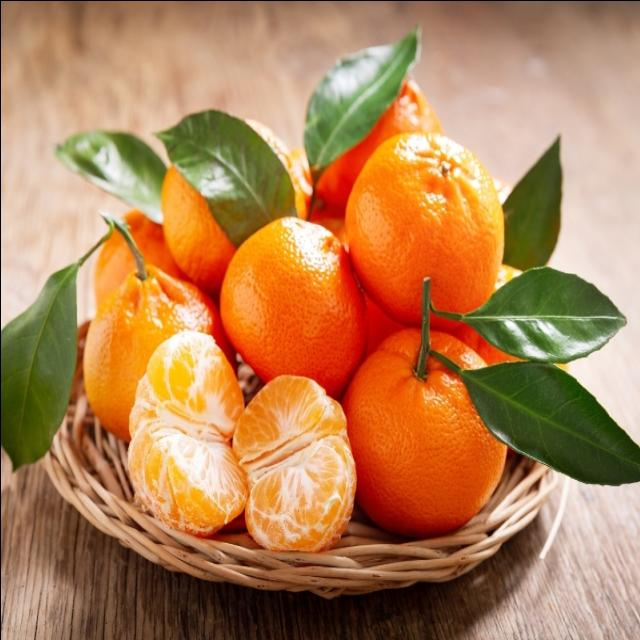Orange: (342, 322, 508, 542), (346, 131, 500, 327), (123, 329, 240, 538), (220, 214, 364, 380), (234, 367, 348, 558)
